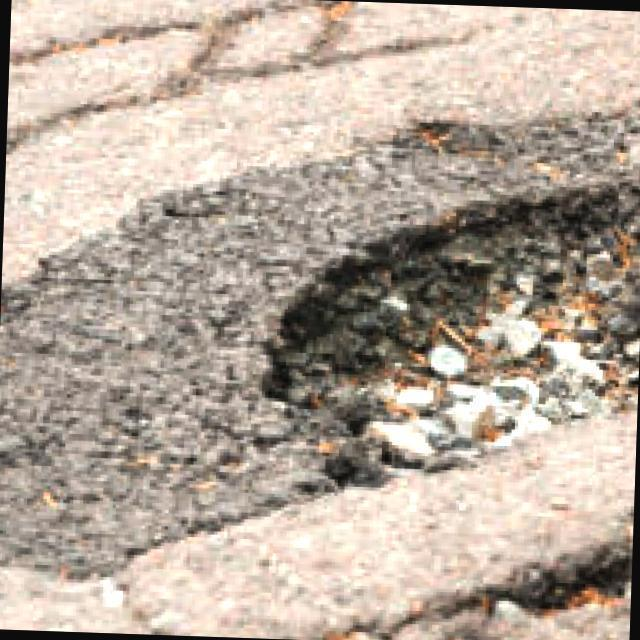Pothole: (268, 189, 640, 487)
